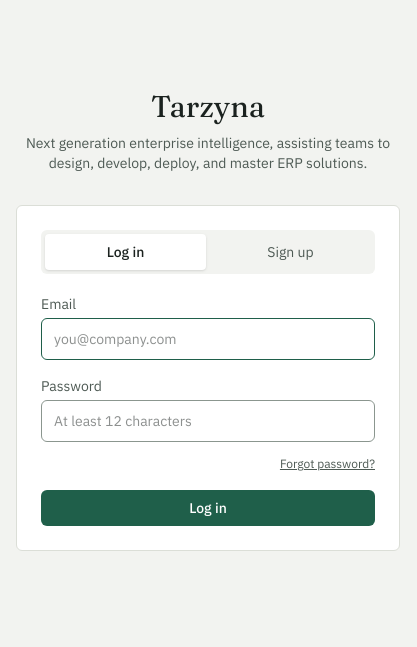
Test: LoginPage signup flow › displays a backend validation error (422) when the password is too short
Click the button "Sign up": click(290, 252) [210, 234, 371, 270]
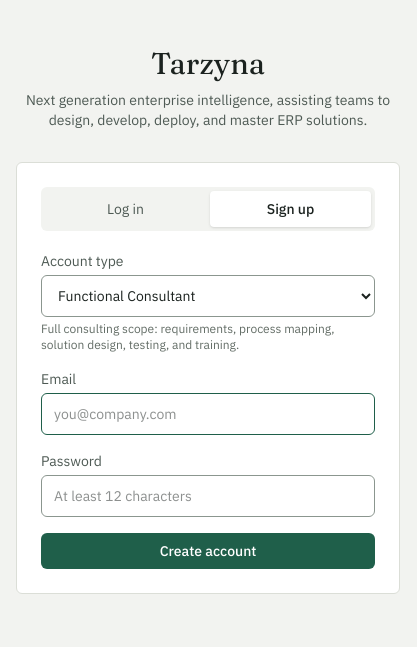
In the password field labelled "Password": (208, 496) [41, 475, 375, 517], type "short"
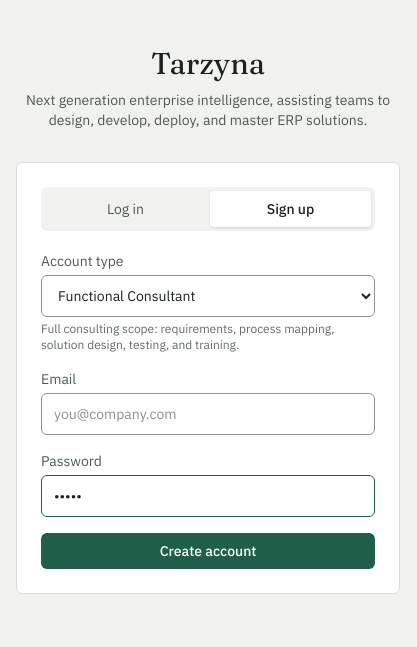
In the field labelled "Email": (208, 414) [41, 393, 375, 435], type "a@b.com"
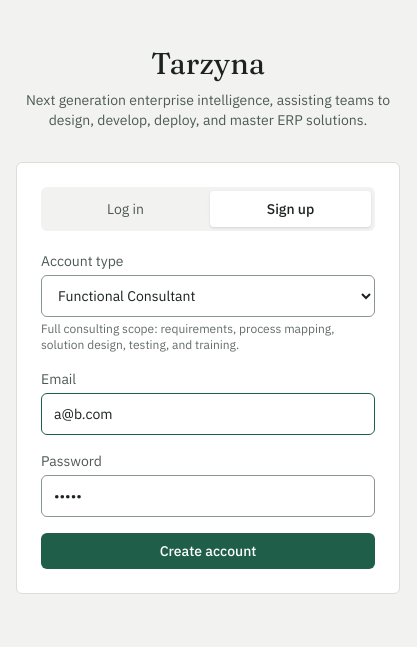
Click the button "Create account": click(208, 551) [41, 533, 375, 569]
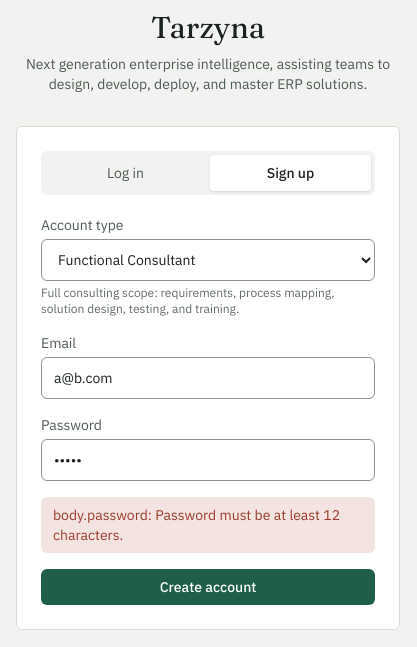
Expected: the message shows "Password must be at least 12 characters", [53, 506, 340, 544]
